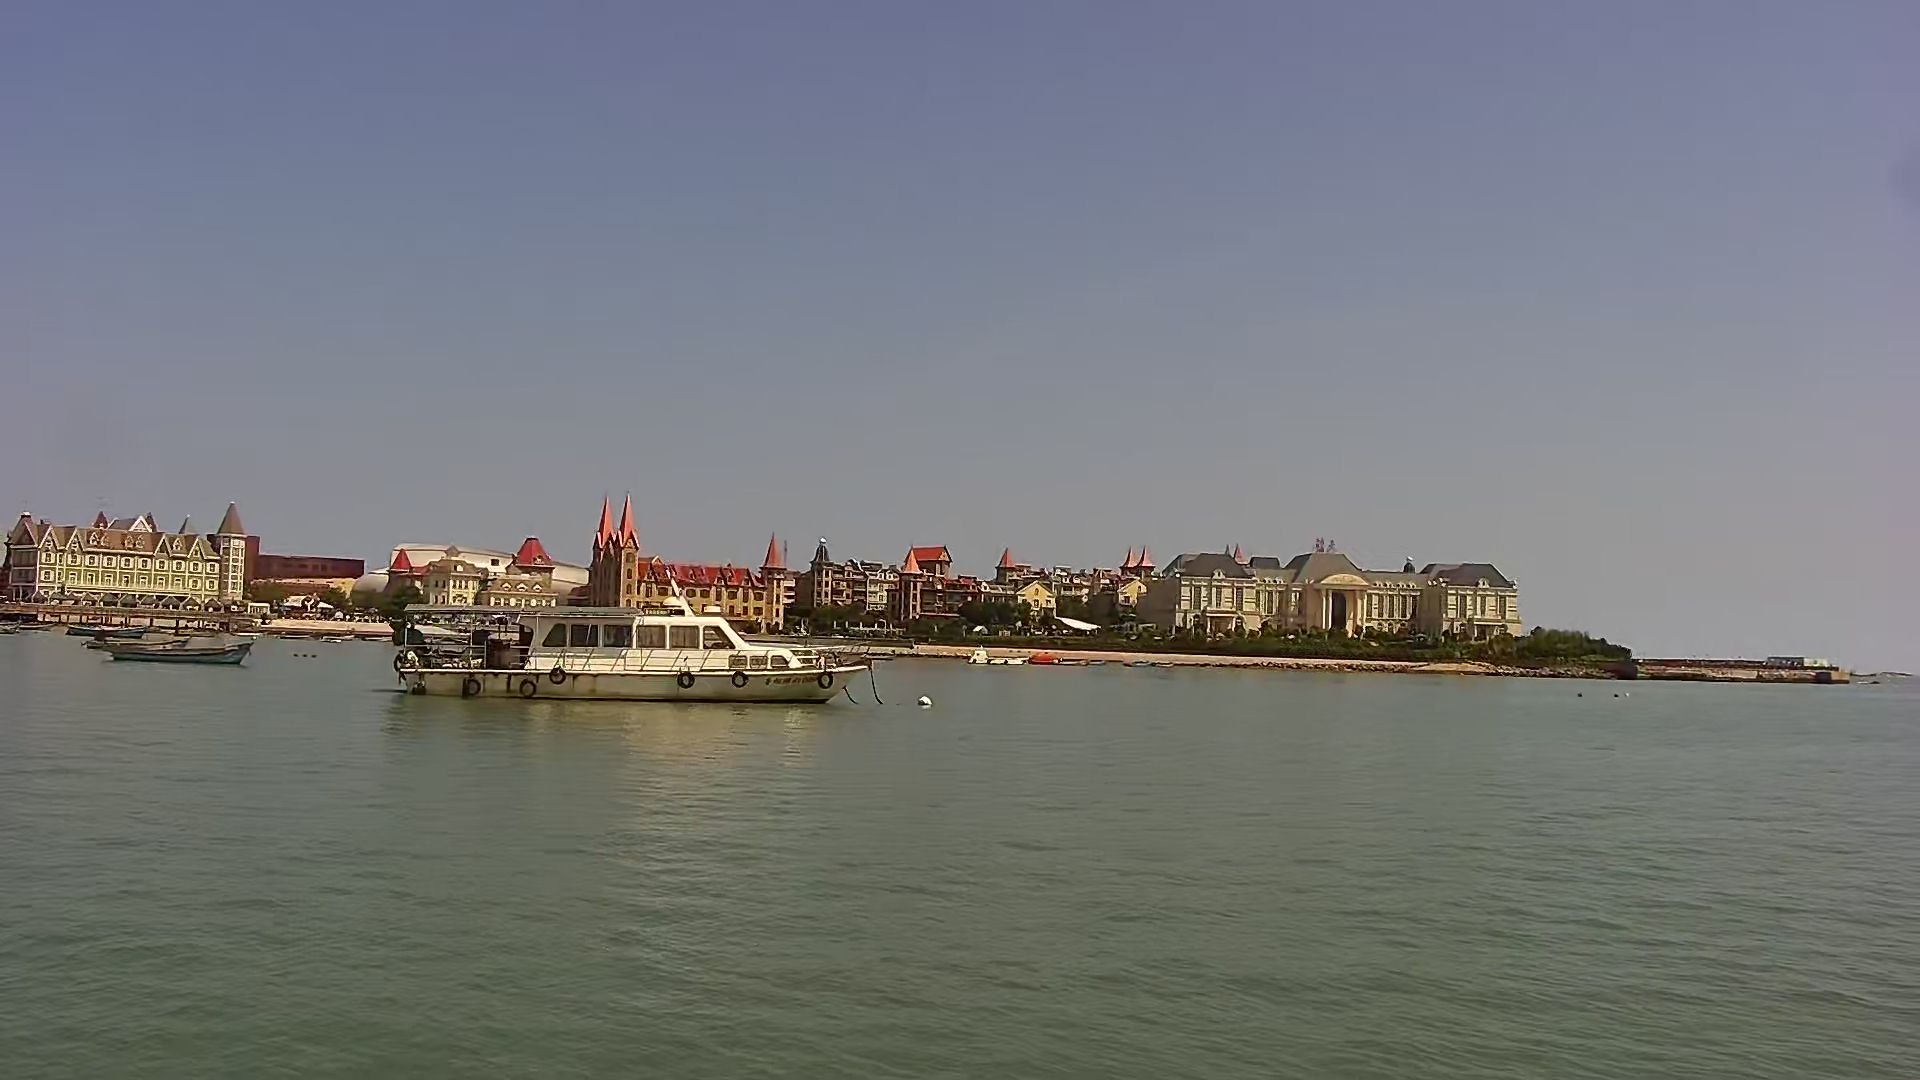ball: (916, 690, 934, 712)
boat: (105, 632, 255, 665), (65, 618, 158, 642)
ship: (392, 591, 885, 708)
